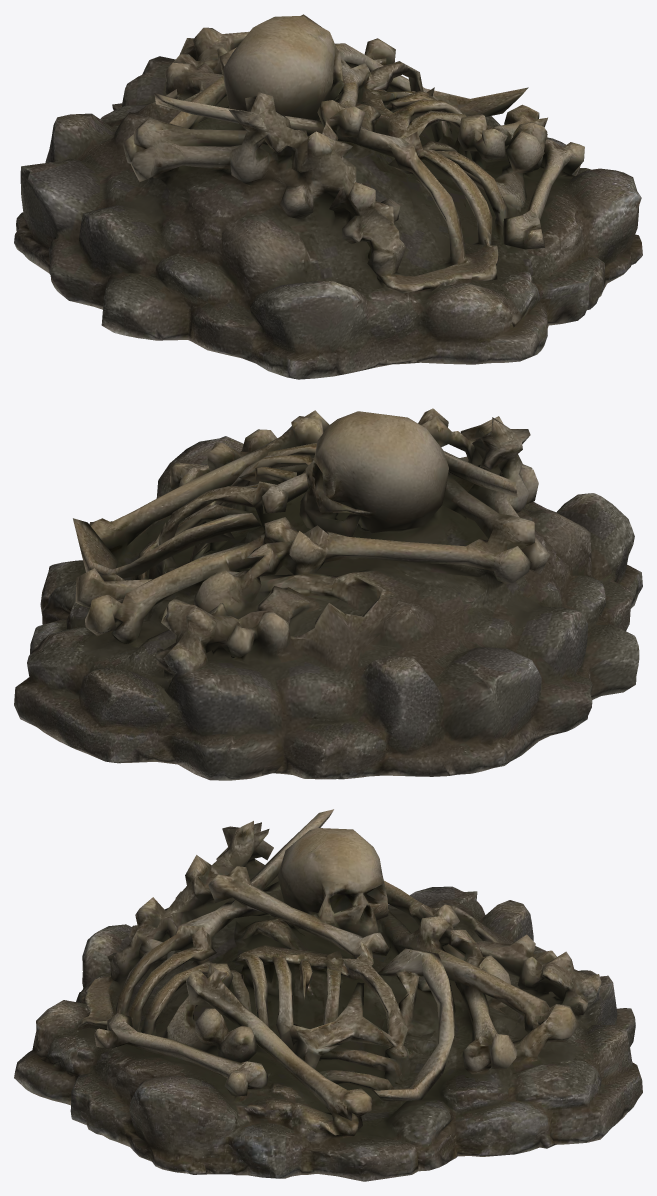
The model's file is bone-pile.glb.
The picture shows the model from 3 angles, top to bottom: view 1: azimuth 30°, elevation 25°; view 2: azimuth 150°, elevation 25°; view 3: azimuth 270°, elevation 25°; orthographic projection. The views are drawn at different scales.
Parts seen in each view (by area): view 1: tripo_node_027fe6f5-ec5e-483c-925a-1f12d47fe9de; view 2: tripo_node_027fe6f5-ec5e-483c-925a-1f12d47fe9de; view 3: tripo_node_027fe6f5-ec5e-483c-925a-1f12d47fe9de.
Boxes of the visible parts, x1,y1,x2,y2 form: tripo_node_027fe6f5-ec5e-483c-925a-1f12d47fe9de: [14, 14, 642, 379]; tripo_node_027fe6f5-ec5e-483c-925a-1f12d47fe9de: [14, 408, 642, 780]; tripo_node_027fe6f5-ec5e-483c-925a-1f12d47fe9de: [14, 809, 642, 1181].
Bounding box in the file's own units: 0.8868 × 0.3788 × 1.
Materials: 1 (1 with a texture image).
